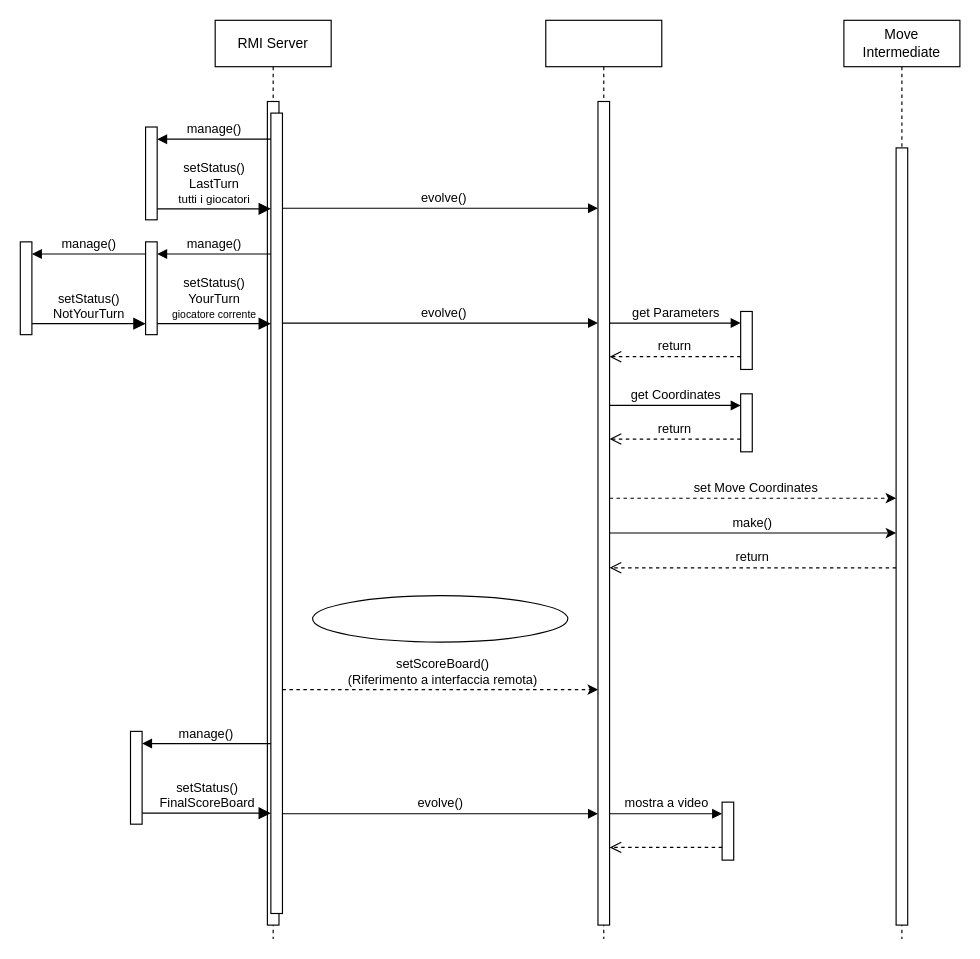
Some shapes in this 980 by 959 pixel diagram are drawn without their labels. Here are the shapes that lost their labels. From the top down, the box of each, then its label:
(545, 19, 662, 939): RMI Client
(311, 594, 568, 642): L'ultimo turno prosegue e termina
